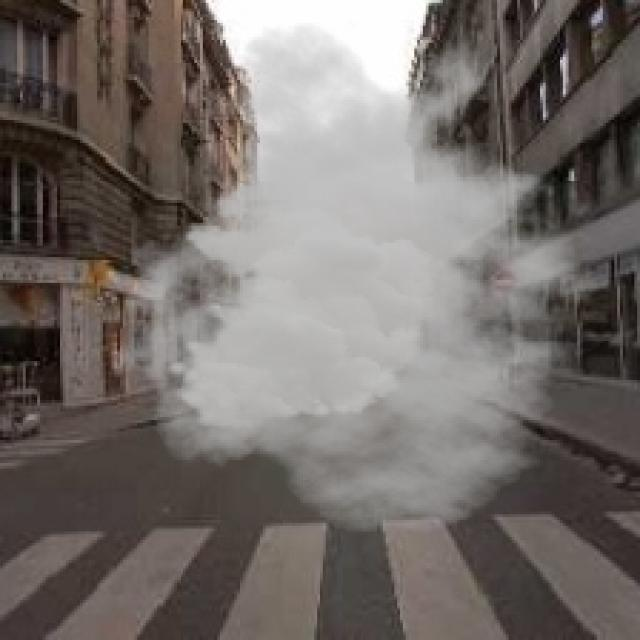Smoke: (108, 19, 634, 534)
